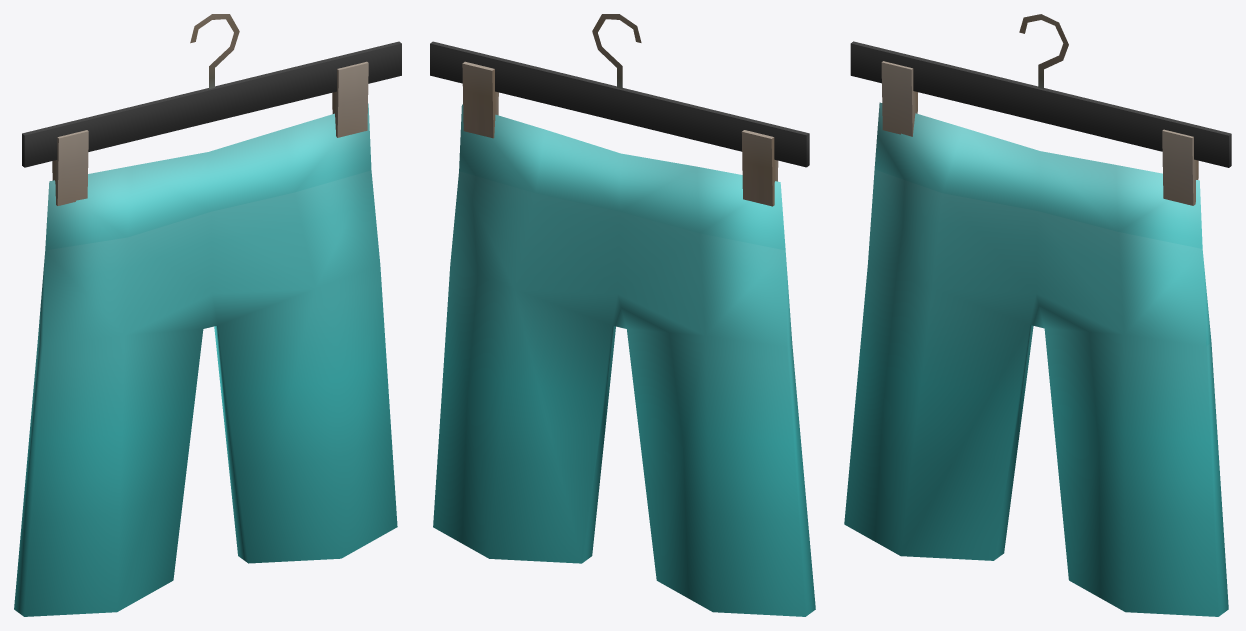
Rendered from Hang_Pants_04.fbx.
3 views of the same model, side by side, from view 1: azimuth 30°, elevation 25°; view 2: azimuth 150°, elevation 25°; view 3: azimuth 330°, elevation 25° (orthographic).
Visible parts, largest first — view 1: Hang_Pants_04; view 2: Hang_Pants_04; view 3: Hang_Pants_04.
Boxes of the visible parts, box(x1,y1,x2,y2) form: Hang_Pants_04: box(14, 14, 401, 616); Hang_Pants_04: box(430, 14, 815, 616); Hang_Pants_04: box(844, 14, 1231, 616).
Bounding box in the file's own units: 0.1566 × 0.2177 × 0.0335.
